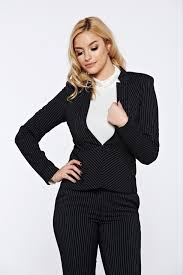F_W_pants: (50, 190, 143, 275)
F_W_suit jacket: (13, 71, 158, 186)
F_shirt: (84, 68, 124, 146)
